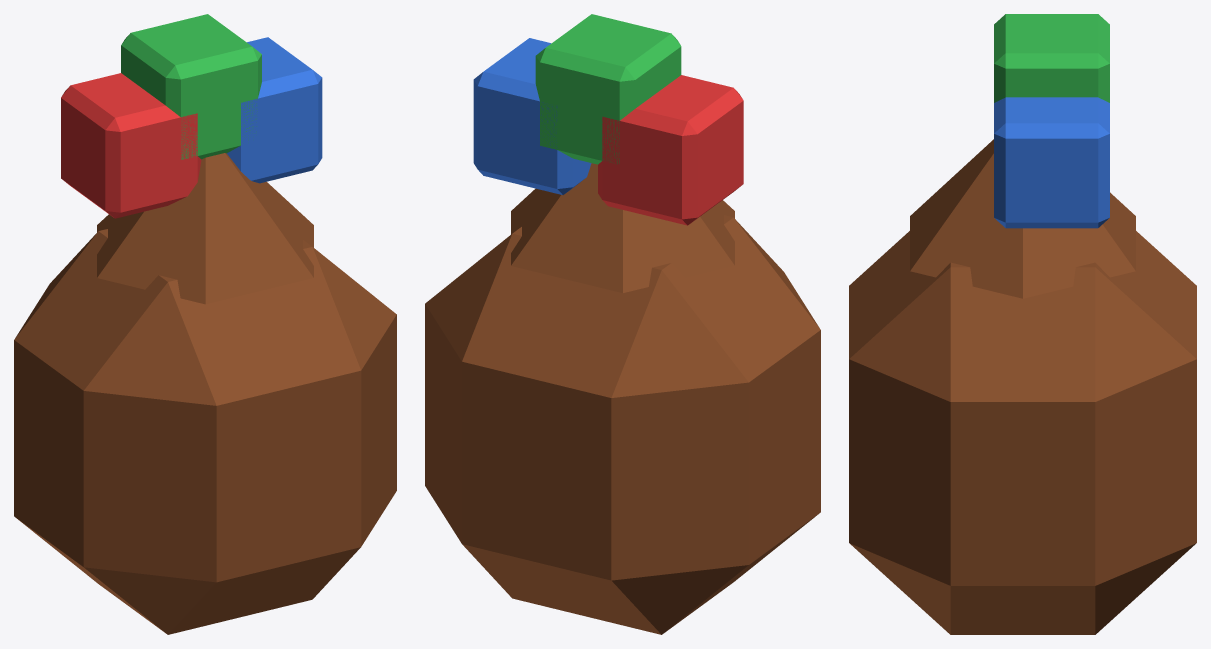
The model's file is SantaSack.fbx.
3 renders of one model, left to right at view 1: azimuth 30°, elevation 25°; view 2: azimuth 150°, elevation 25°; view 3: azimuth 270°, elevation 25°, orthographic. The views are drawn at different scales.
Parts seen in each view (by area): view 1: SantaSack; view 2: SantaSack; view 3: SantaSack.
Part boxes in pixels (x1=…): SantaSack: x1=14, y1=14, x2=396, y2=634; SantaSack: x1=425, y1=14, x2=820, y2=634; SantaSack: x1=849, y1=14, x2=1196, y2=634.
Bounding box in the file's own units: 2.6 × 4.3 × 2.4.
1 material, 1 textured.
